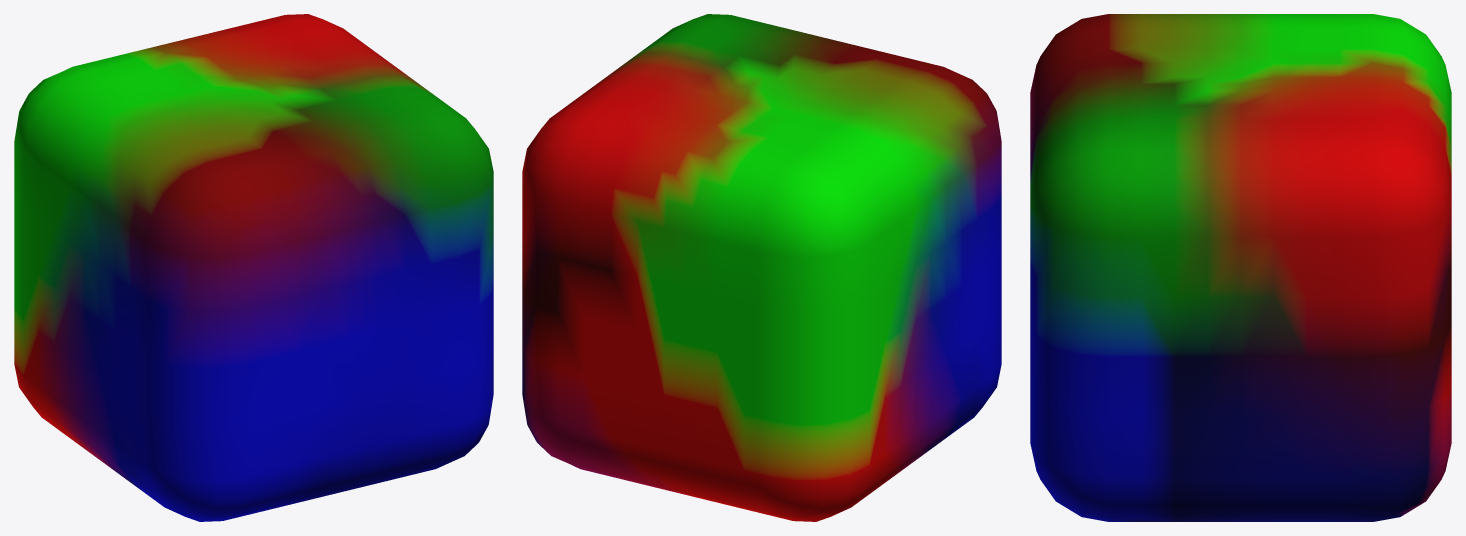
The model's file is CubeVertexPaint.fbx.
3 views of the same model, side by side, from view 1: azimuth 30°, elevation 25°; view 2: azimuth 150°, elevation 25°; view 3: azimuth 270°, elevation 25° (orthographic). The views are drawn at different scales.
Visible parts, largest first — view 1: CubeVertexPaint; view 2: CubeVertexPaint; view 3: CubeVertexPaint.
Part boxes in pixels (bbox=[...]): CubeVertexPaint: bbox=[14, 14, 493, 521]; CubeVertexPaint: bbox=[522, 14, 1001, 521]; CubeVertexPaint: bbox=[1030, 14, 1451, 521].
Bounding box in the file's own units: 5.55 × 5.55 × 5.55.
